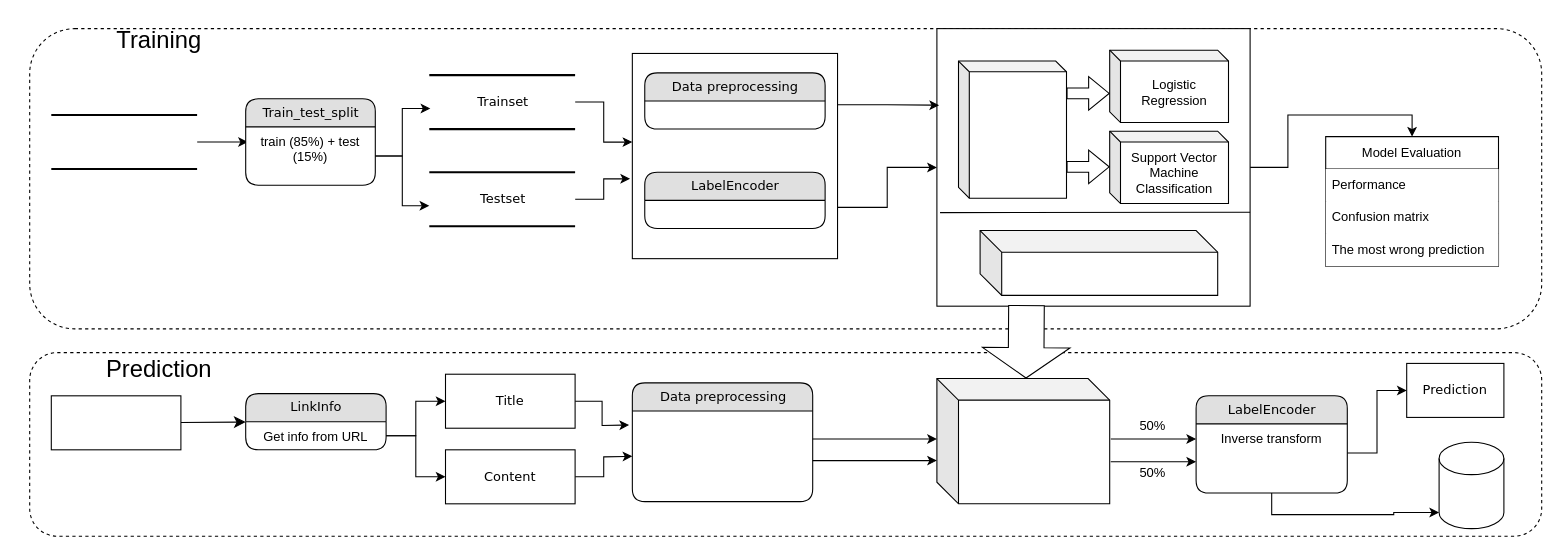
The diagram is 1561 pixels wide and 555 high, and some of its shapes have lost their labels. The centre of each missing label's shape, as x and y in pixels:
Emsemble Classifier: (x=1023, y=440)
Input URL: (x=115, y=422)
Log: (x=1471, y=485)
Neural Network Embeddings: (x=1098, y=262)
Raw Data: (x=124, y=141)
TF-IDF vectorization ( Feature extraction ): (x=1011, y=129)
